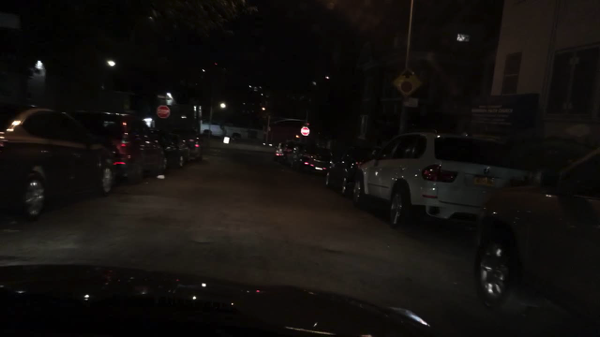car: (471, 137, 598, 333), (348, 127, 542, 233), (0, 102, 124, 221), (70, 110, 168, 185), (323, 138, 383, 201), (150, 125, 191, 168), (292, 145, 338, 177), (171, 125, 203, 161), (282, 140, 307, 169), (272, 141, 285, 161), (230, 131, 243, 142), (203, 130, 213, 138)
traffic light: (295, 133, 301, 140), (260, 107, 266, 112)
traffic sign: (392, 68, 422, 96), (157, 104, 170, 119), (405, 98, 417, 107), (301, 125, 310, 136), (157, 95, 170, 101)
